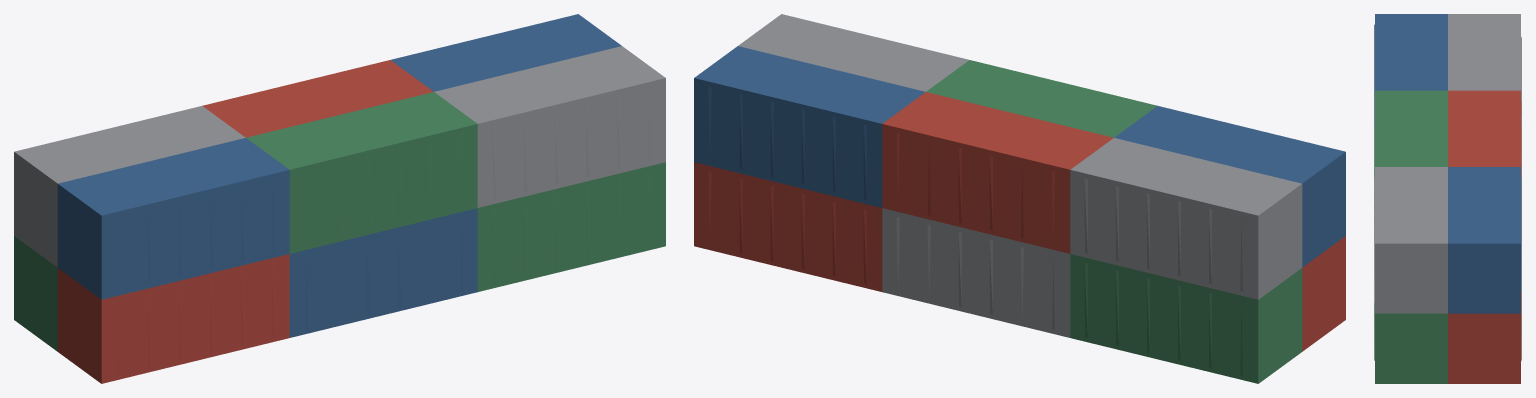
Rendered from prop_container_stack_lod1.glb.
The picture shows the model from 3 angles, left to right: view 1: azimuth 30°, elevation 25°; view 2: azimuth 150°, elevation 25°; view 3: azimuth 270°, elevation 25°; orthographic projection. The views are drawn at different scales.
Parts seen in each view (by area): view 1: container_stack.001_lod1; view 2: container_stack.001_lod1; view 3: container_stack.001_lod1.
Part boxes in pixels (x1,y1,x2,y2): container_stack.001_lod1: (14, 14, 665, 383); container_stack.001_lod1: (694, 14, 1345, 383); container_stack.001_lod1: (1374, 14, 1521, 383).
Bounding box in the file's own units: 18.18 × 5.18 × 4.95.
